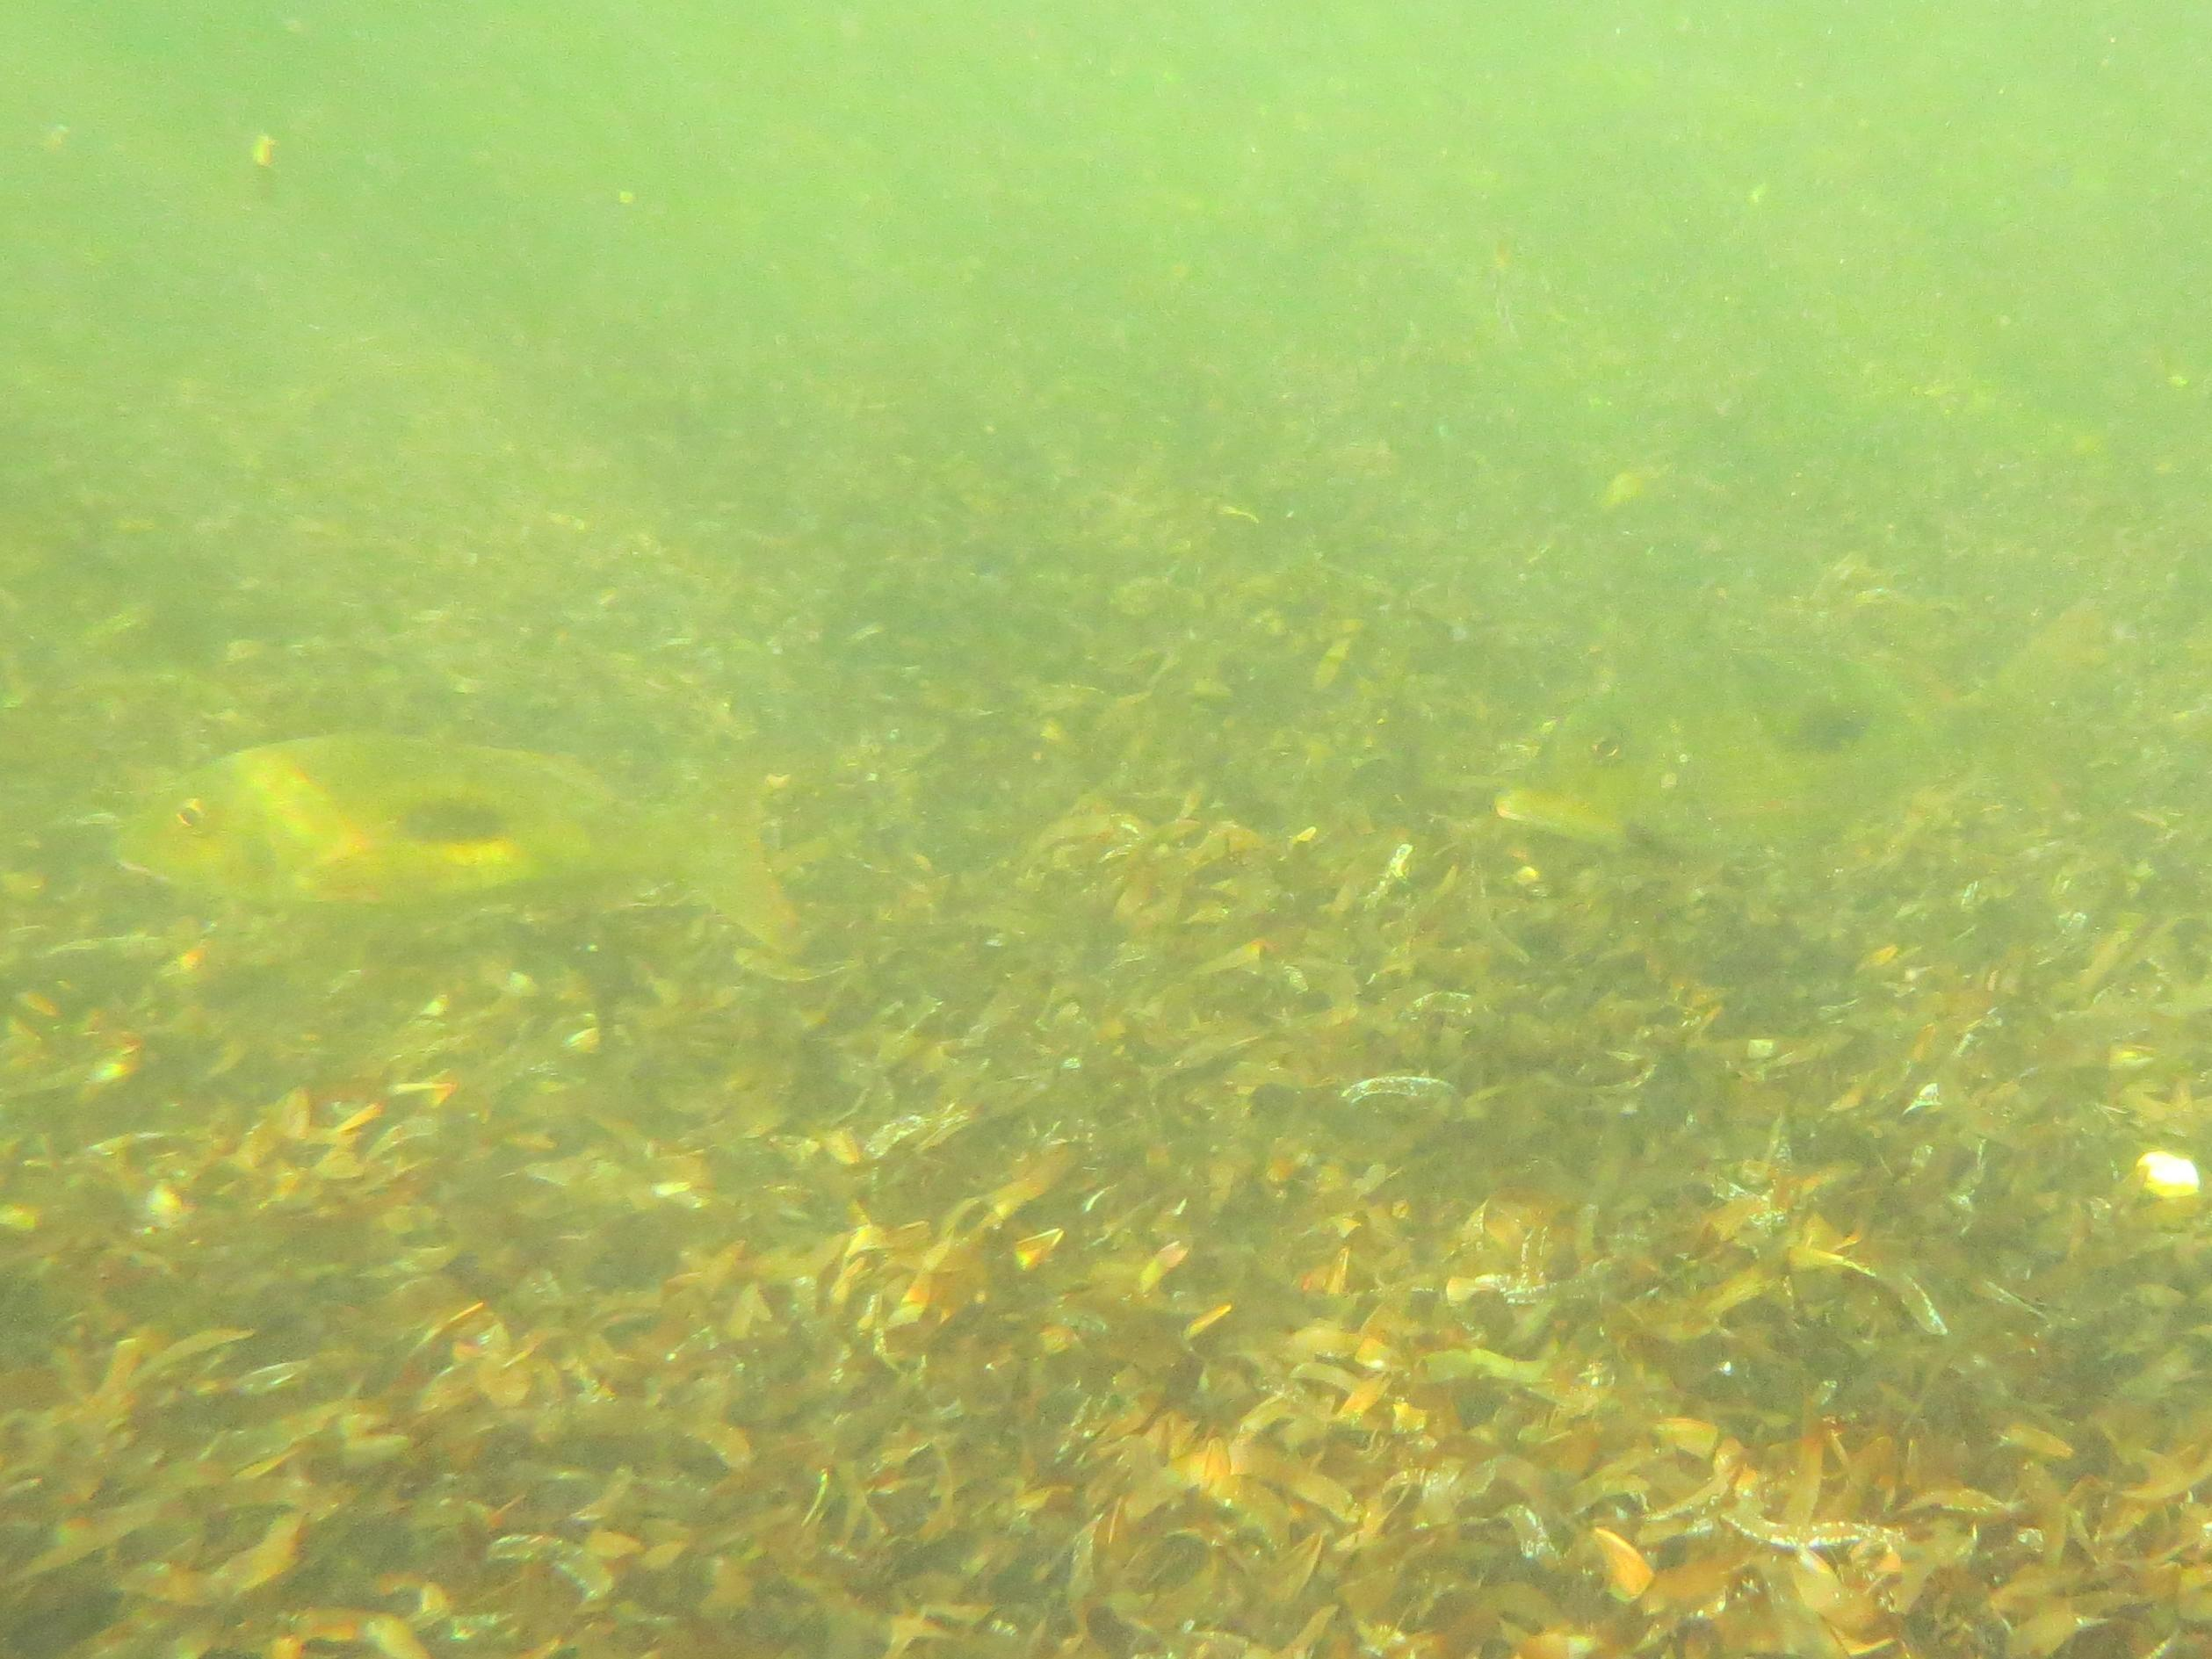Fish: (106, 727, 835, 955), (1489, 619, 2113, 868)
